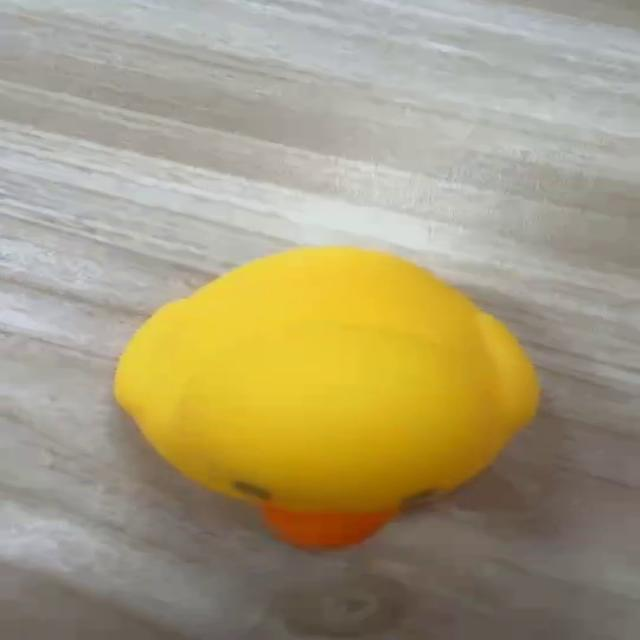yellow_duck: (110, 243, 542, 553)
